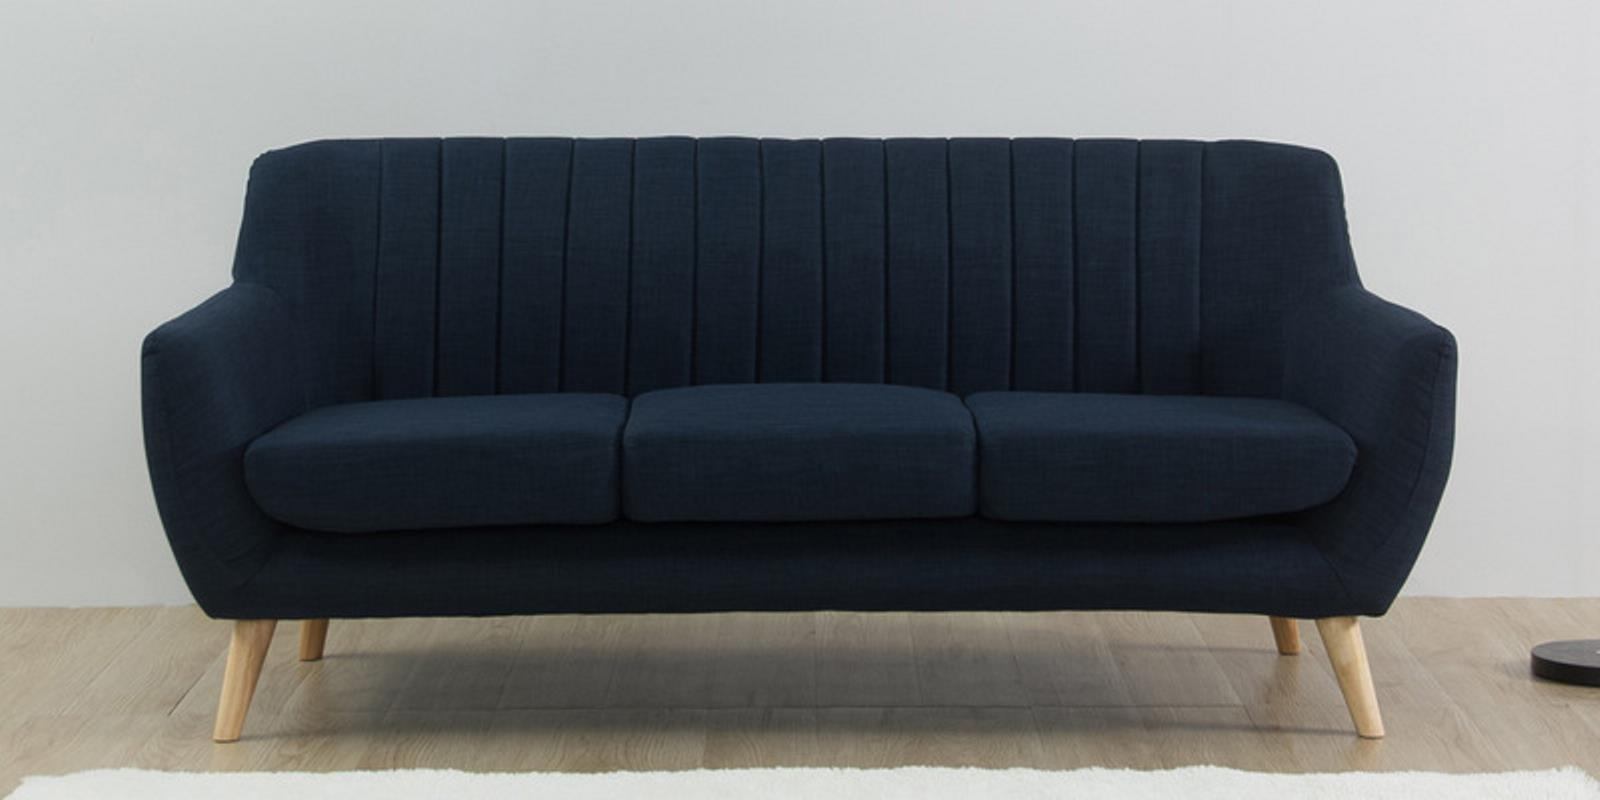Managua Three Seater Sofa in Blue Colour by CasaCraft: (141, 132, 1459, 744)
